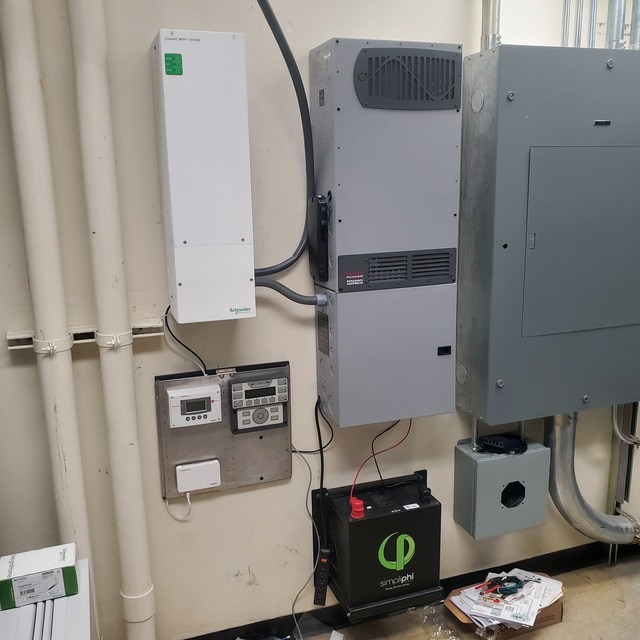battery: (312, 473, 447, 616)
charge_controller: (143, 24, 266, 330)
inverter: (305, 33, 462, 429)
